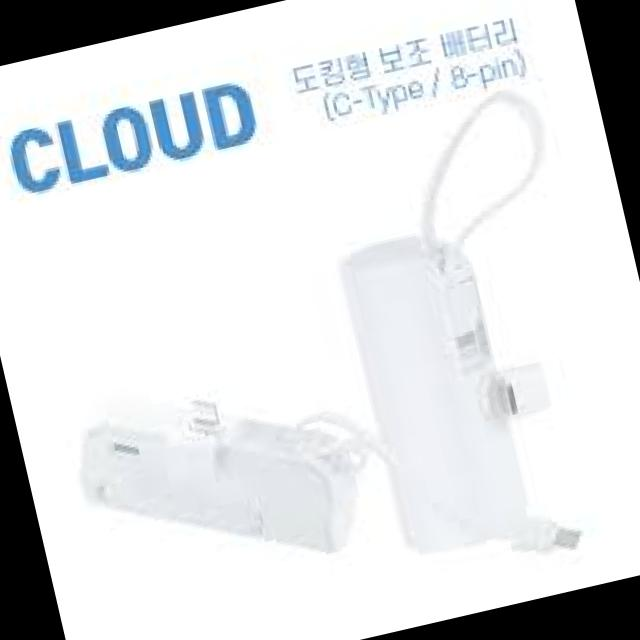power_bank: (328, 206, 583, 584), (60, 352, 377, 608)
